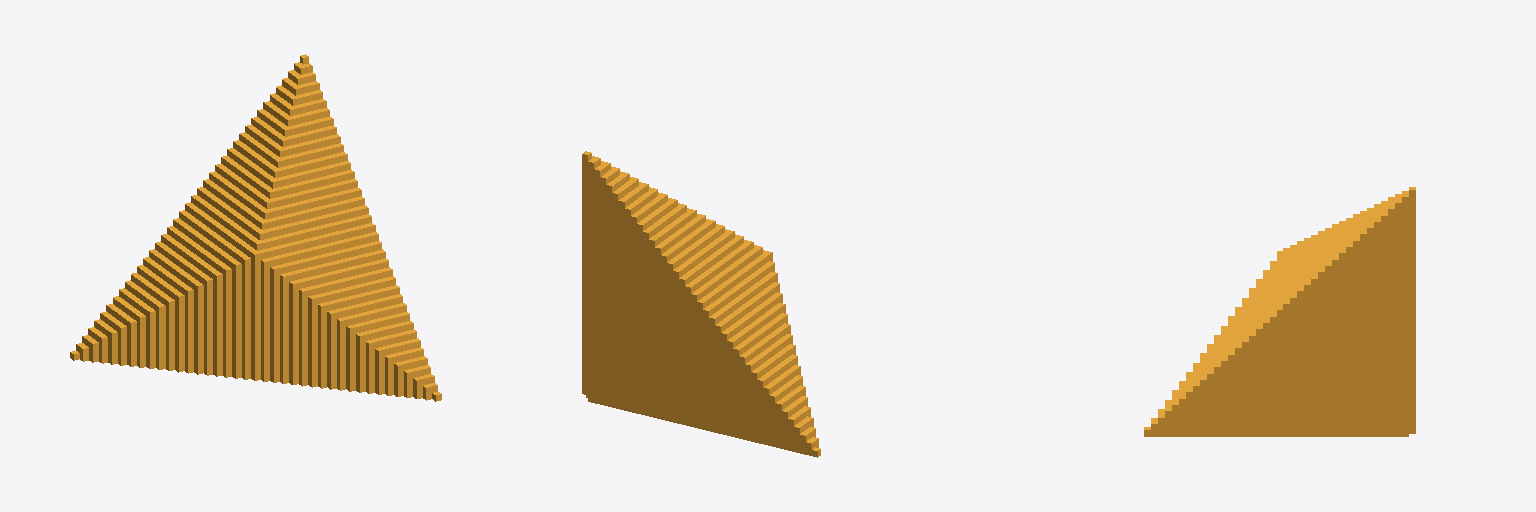
3 renders of one model, left to right at view 1: azimuth 30°, elevation 25°; view 2: azimuth 150°, elevation 25°; view 3: azimuth 270°, elevation 25°, orthographic.
Visible parts, largest first — view 1: object 1; view 2: object 1; view 3: object 1.
Boxes of the visible parts, x1=… form: object 1: x1=70, y1=54, x2=441, y2=401; object 1: x1=582, y1=151, x2=820, y2=457; object 1: x1=1144, y1=187, x2=1415, y2=436.
Size of the model in its own units: 3.9 by 3.9 by 3.9.
Materials: 1 (1 with a texture image).